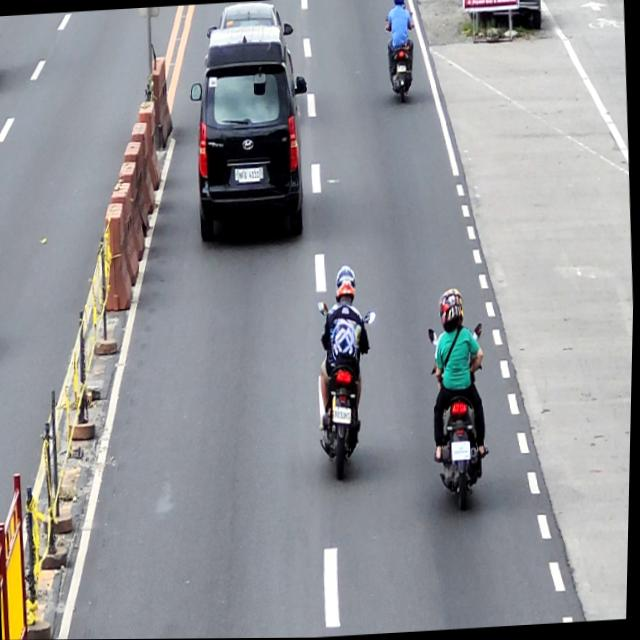Car: (185, 24, 316, 244), (207, 1, 294, 42)
License-Plate: (454, 443, 473, 462), (239, 168, 261, 184), (335, 406, 353, 425), (397, 65, 407, 74)
Motorcycle: (315, 295, 384, 483), (426, 326, 492, 514), (384, 14, 418, 106)
